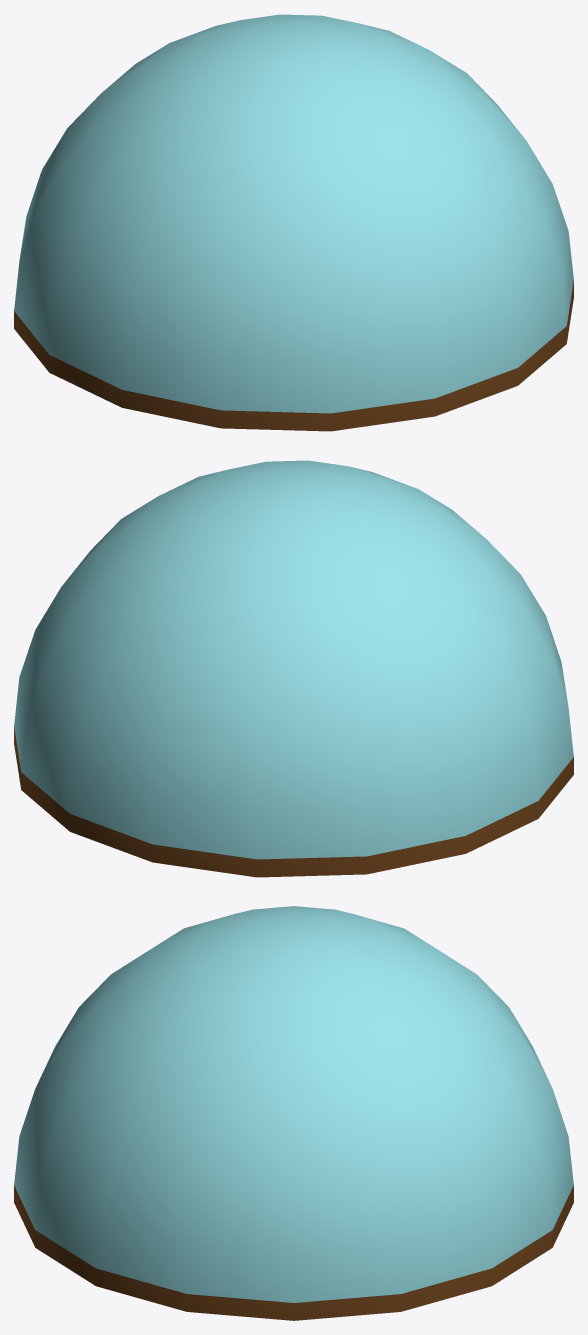
Rendered from panel.dae.
The picture shows the model from 3 angles, top to bottom: view 1: azimuth 30°, elevation 25°; view 2: azimuth 150°, elevation 25°; view 3: azimuth 270°, elevation 25°; orthographic projection.
Parts seen in each view (by area): view 1: sphere; view 2: sphere; view 3: sphere.
Part boxes in pixels (bbox=[...]): sphere: bbox=[14, 14, 573, 431]; sphere: bbox=[14, 460, 573, 877]; sphere: bbox=[14, 906, 573, 1320].
Bounding box in the file's own units: 45.08 × 24.03 × 45.08.
